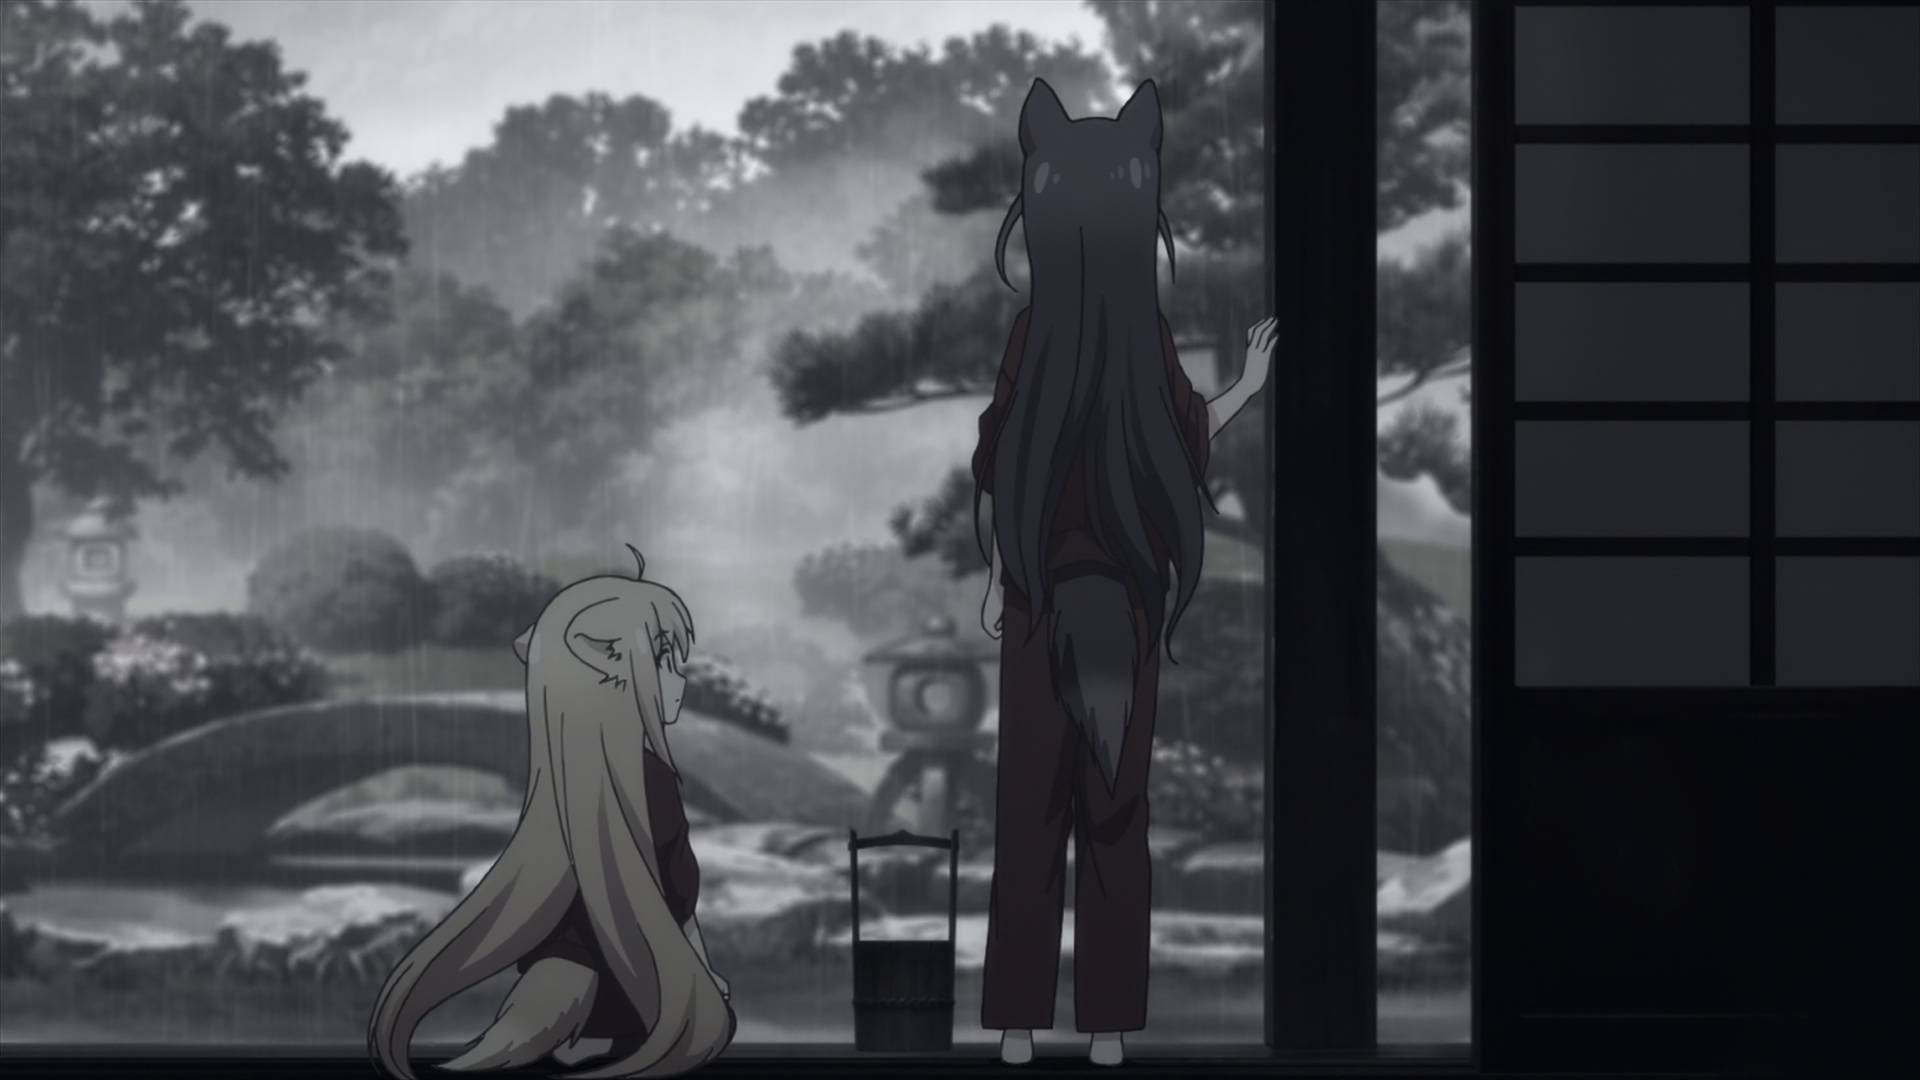柚: (368, 543, 738, 1080)
皋: (971, 79, 1276, 1072)
